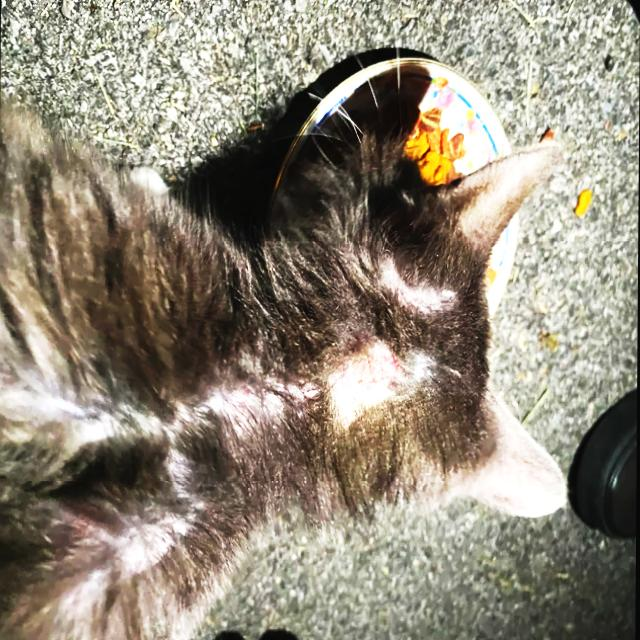hairloss: (327, 348, 411, 433), (126, 525, 175, 572), (199, 395, 273, 419)
